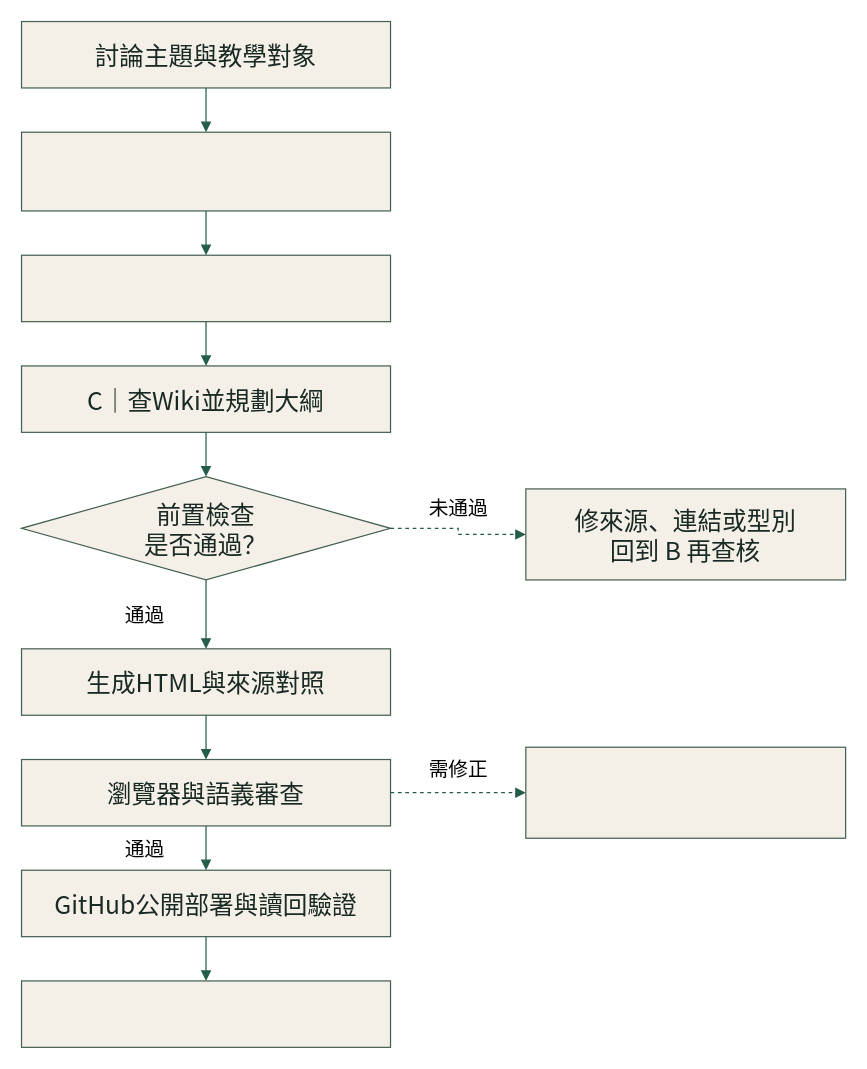
Some shapes in this 867 by 1069 pixel diagram are drawn without their labels. Each missing label, with the centre of its shape:
"B｜整理Wiki與來源" belongs at point 205,288.
"PDF排版與逐頁驗收" belongs at point 205,1013.
"修內容或版面 回到 C 再生成" belongs at point 685,792.
"擷取七篇官方資料 核對版本與SHA256" belongs at point 205,171.
